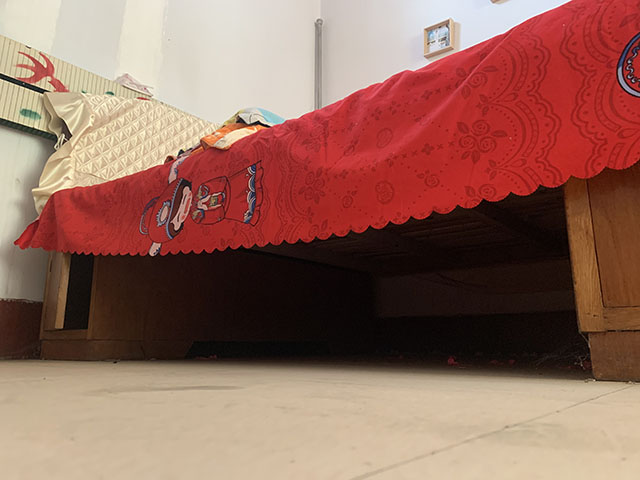bed: (12, 1, 640, 385)
